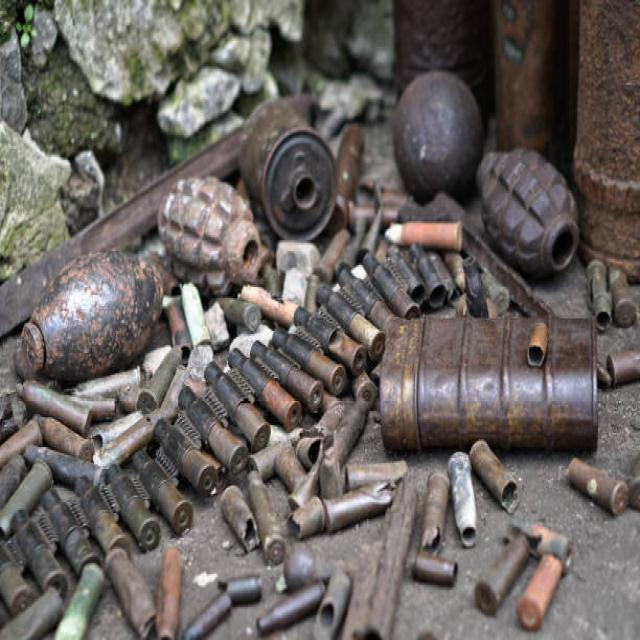grenade: (18, 247, 168, 387), (476, 145, 588, 282), (158, 170, 264, 294)
